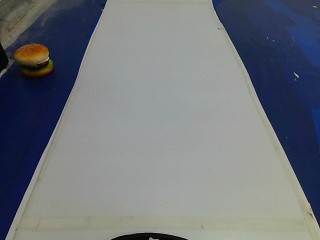burger: (7, 30, 59, 85)
